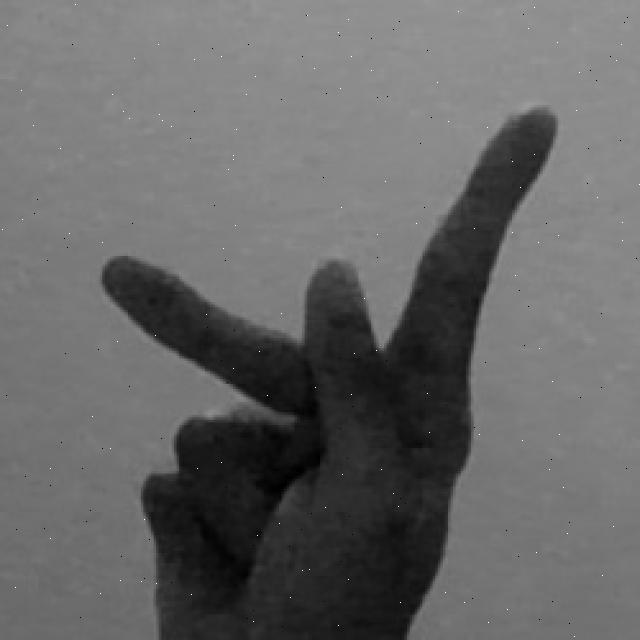K: (95, 102, 569, 640)
